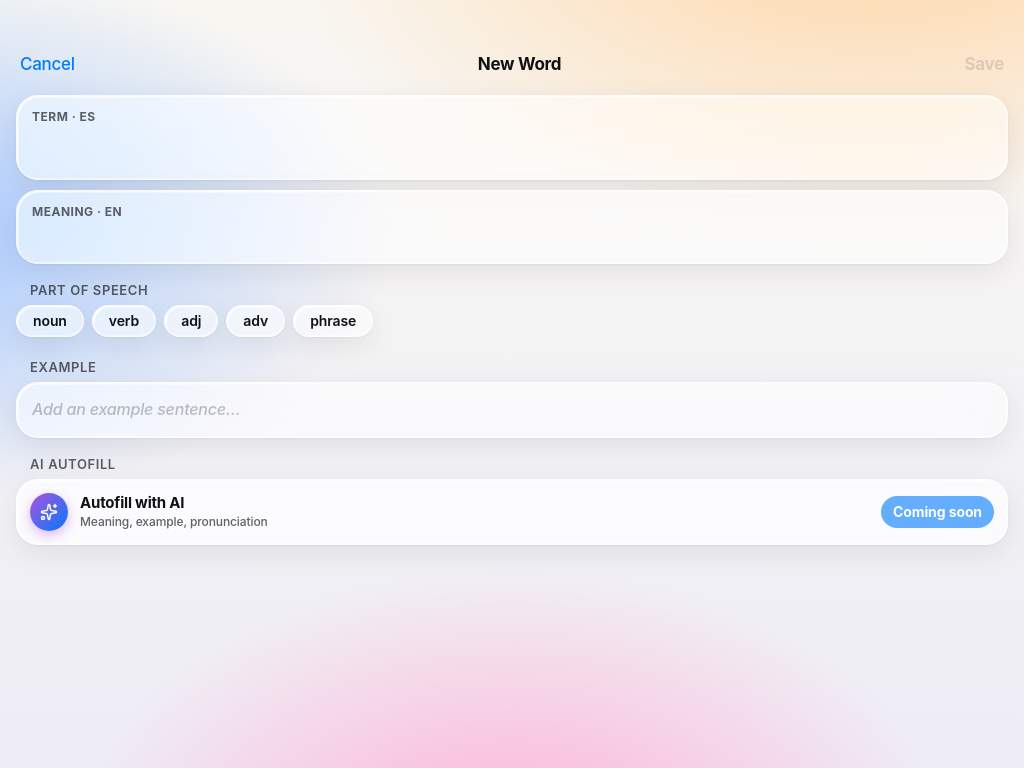
it: AddWordModal › Successful save path › should show toast confirmation after successful save
The image size is (1024, 768).
Type "hello" into the field named "term in es".
click(512, 148); type("hello")  # box [32, 131, 992, 164]
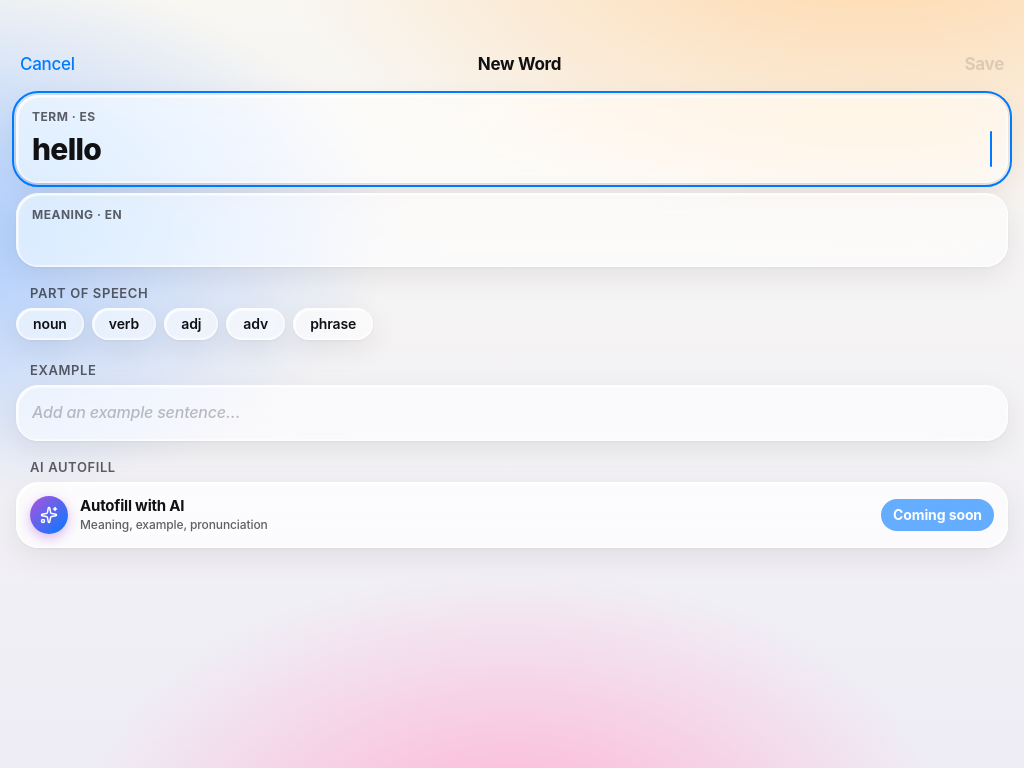
Type "hola" into the field named "meaning in en".
click(512, 240); type("hola")  # box [32, 229, 992, 251]
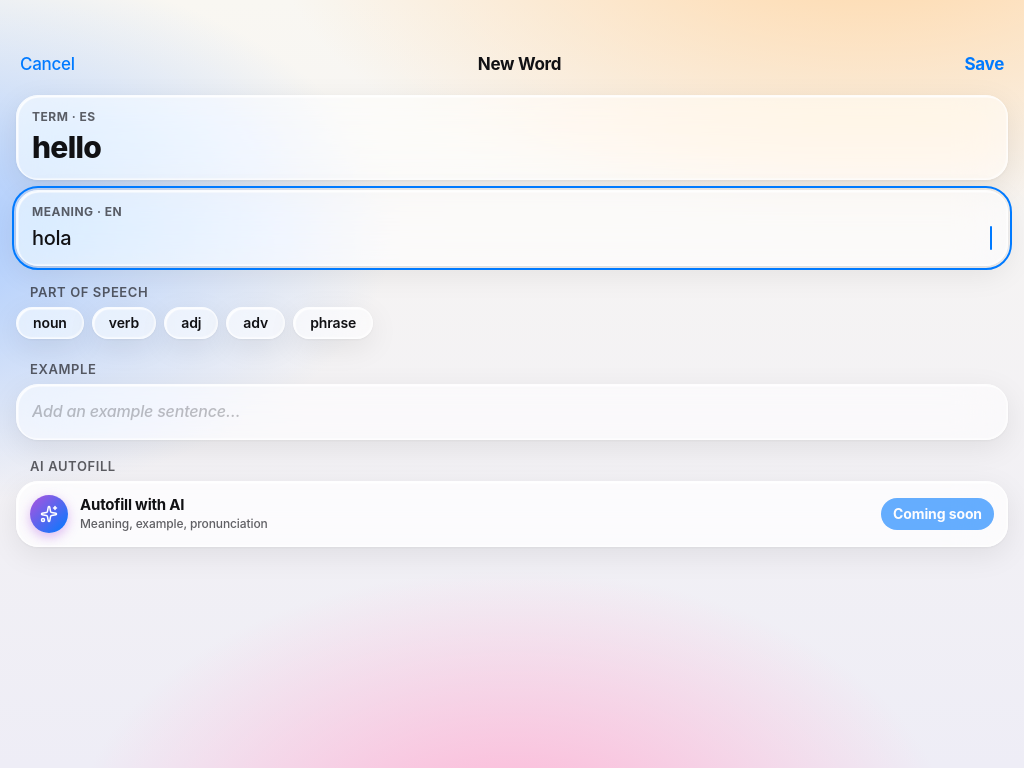
Click the button "Save".
click(984, 64)  # box [964, 56, 1004, 73]
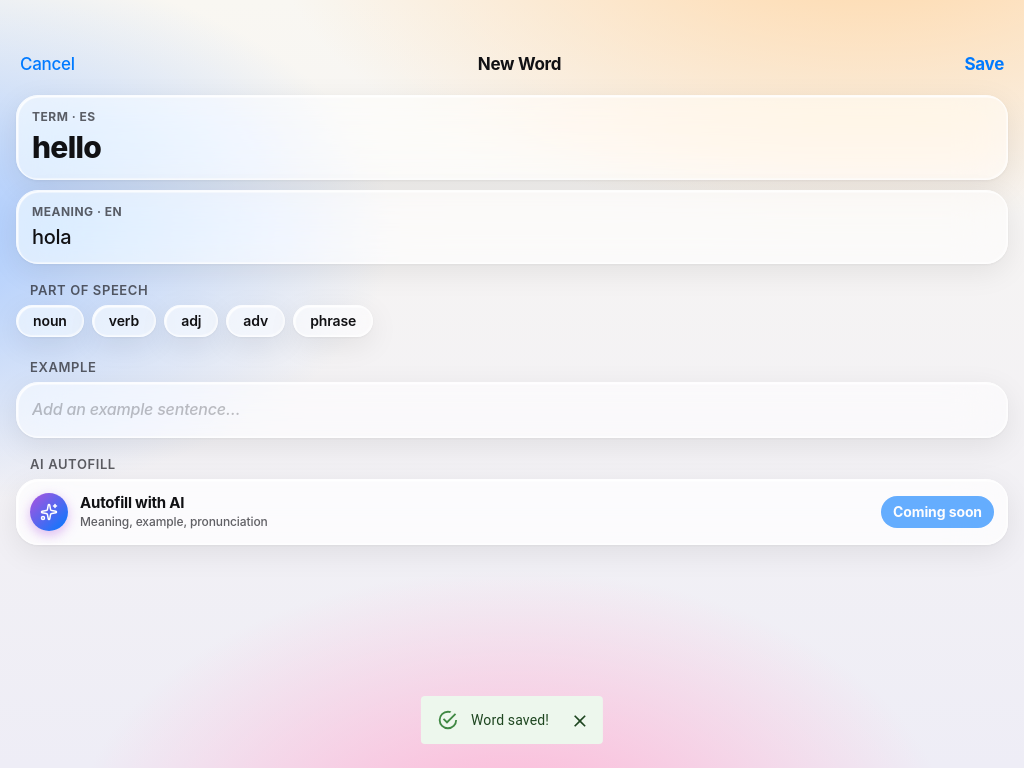
Expected: the text "Word saved!" is shown, [471, 712, 549, 728]
